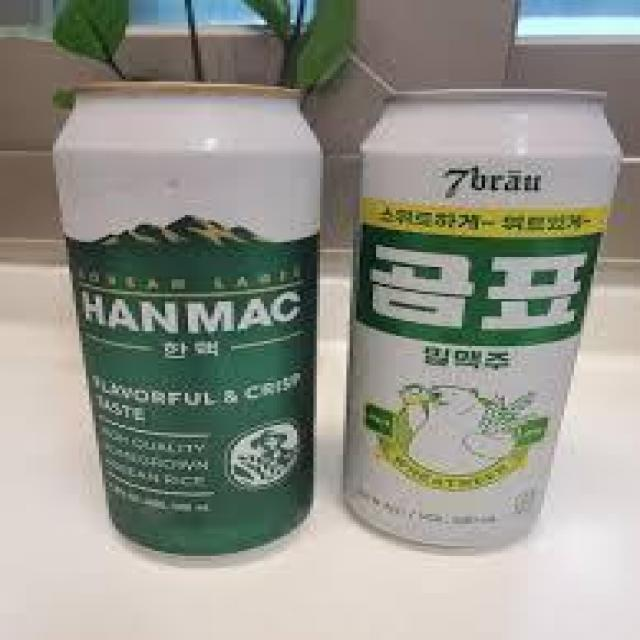beer-can: (44, 78, 328, 564), (342, 78, 632, 547)
